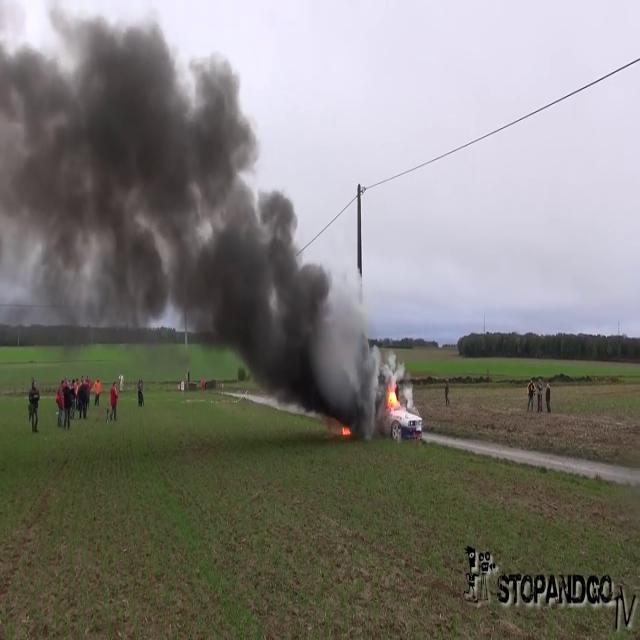Fire: (385, 374, 402, 416)
Smoke: (0, 6, 380, 430)
